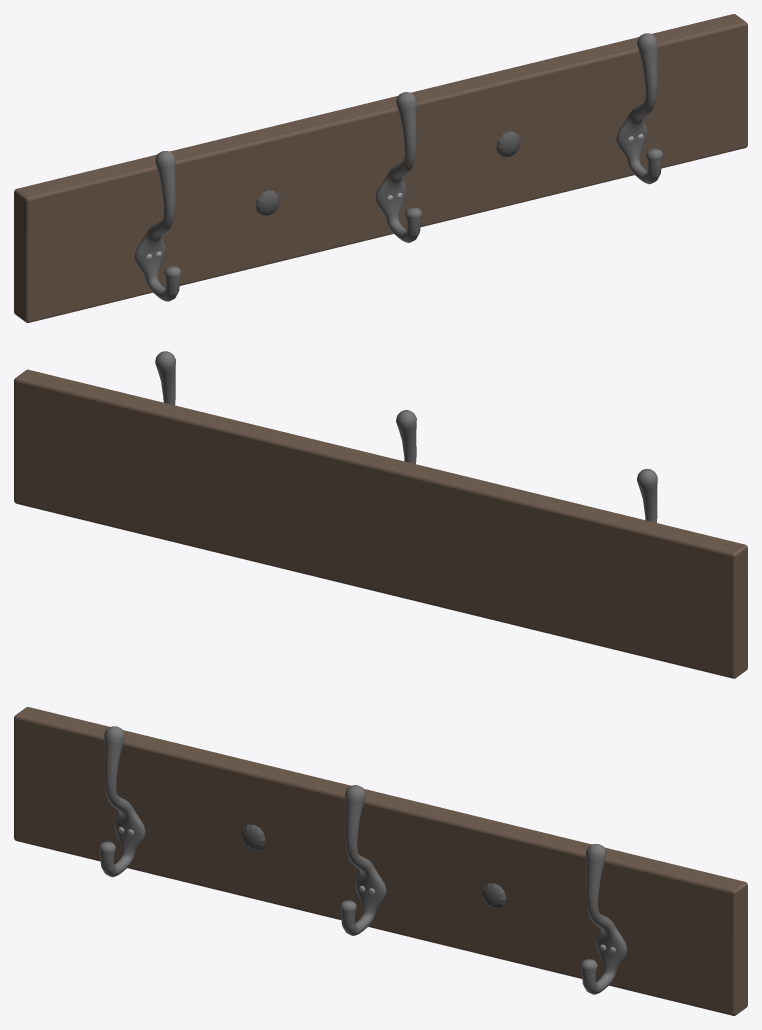
The model's file is MountedWallHooks.fbx.
The picture shows the model from 3 angles, top to bottom: view 1: azimuth 30°, elevation 25°; view 2: azimuth 150°, elevation 25°; view 3: azimuth 330°, elevation 25°; orthographic projection.
Visible parts, largest first — view 1: MountedWallHooks; view 2: MountedWallHooks; view 3: MountedWallHooks.
Part boxes in pixels (box(x1,y1,x2,y2)): MountedWallHooks: box(14, 14, 747, 322); MountedWallHooks: box(14, 351, 747, 678); MountedWallHooks: box(14, 707, 747, 1015).
Bounding box in the file's own units: 6 × 1.25 × 0.631.
